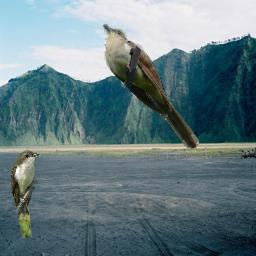Cuckoo: (103, 24, 199, 149), (11, 148, 41, 238)
